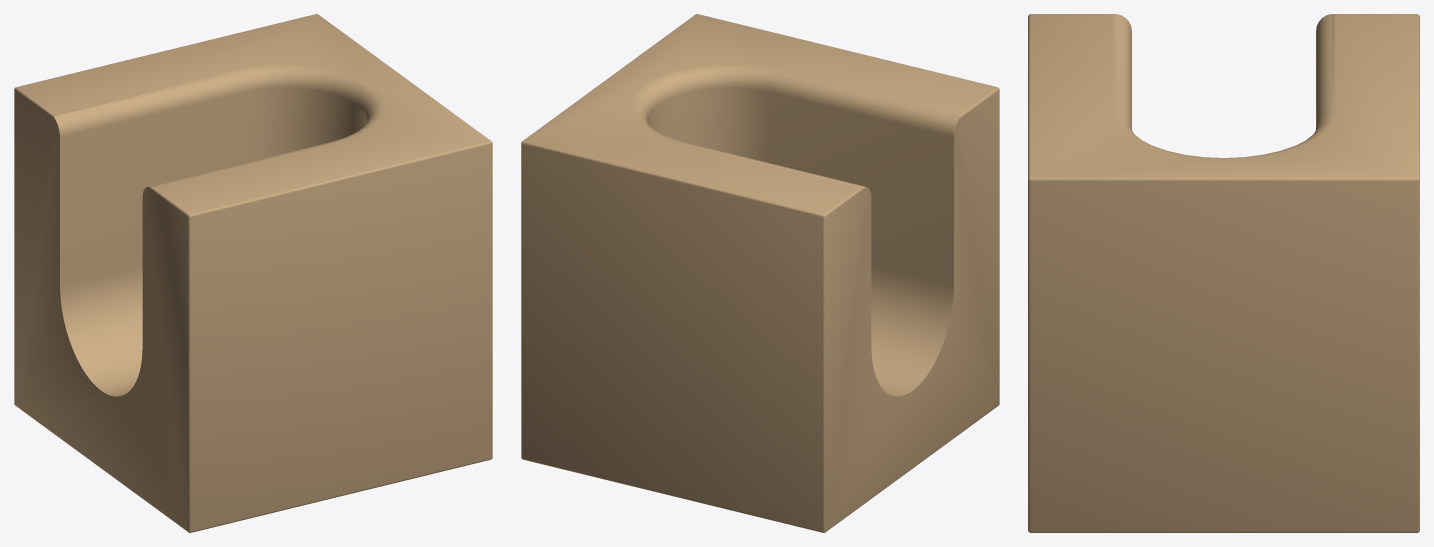
The model's file is blk_end_l1.glb.
3 renders of one model, left to right at view 1: azimuth 30°, elevation 25°; view 2: azimuth 150°, elevation 25°; view 3: azimuth 270°, elevation 25°, orthographic. The views are drawn at different scales.
Parts seen in each view (by area): view 1: blk_end_l1_lod0; view 2: blk_end_l1_lod0; view 3: blk_end_l1_lod0.
Boxes of the visible parts, <box> form: blk_end_l1_lod0: <box>14,14,492,532</box>; blk_end_l1_lod0: <box>521,14,999,532</box>; blk_end_l1_lod0: <box>1028,14,1419,532</box>.
Size of what is drawn, in the model's own units: 0.0596 by 0.0596 by 0.0596.
